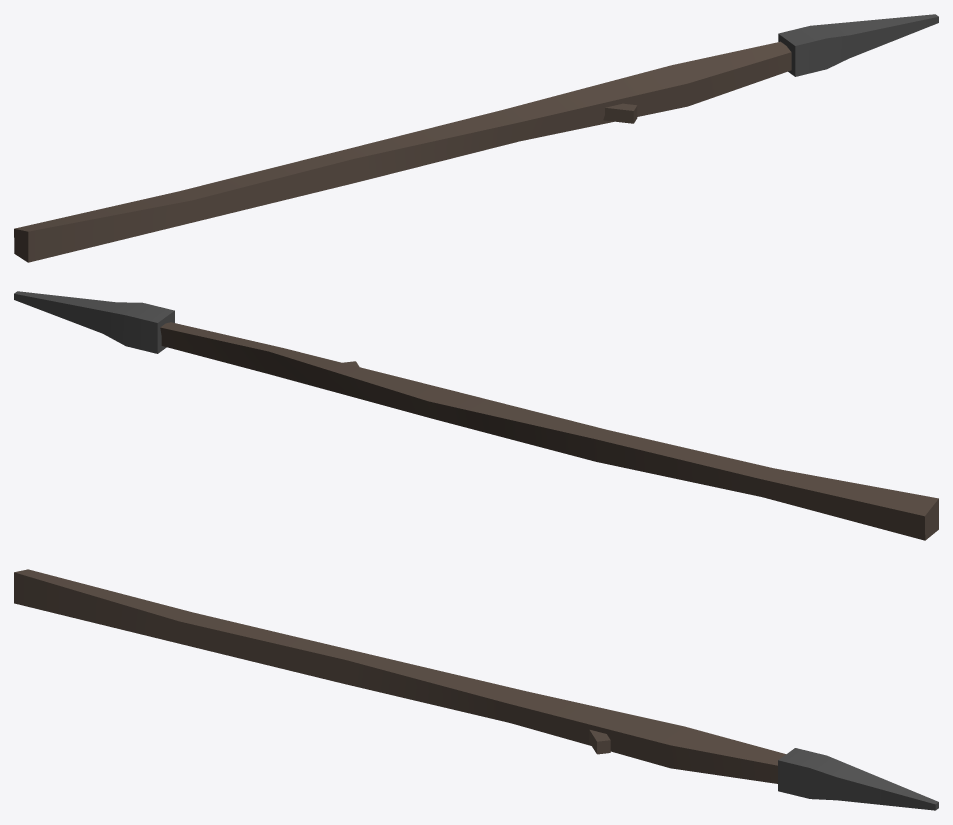
The model's file is spear.gltf.
The picture shows the model from 3 angles, top to bottom: view 1: azimuth 30°, elevation 25°; view 2: azimuth 150°, elevation 25°; view 3: azimuth 330°, elevation 25°; orthographic projection.
Parts seen in each view (by area): view 1: Spear; view 2: Spear; view 3: Spear.
Part boxes in pixels (x1=…): Spear: x1=14, y1=14, x2=938, y2=262; Spear: x1=14, y1=291, x2=938, y2=540; Spear: x1=14, y1=569, x2=938, y2=810.
Size of the model in its own units: 1.67 by 0.0596 by 0.09.
